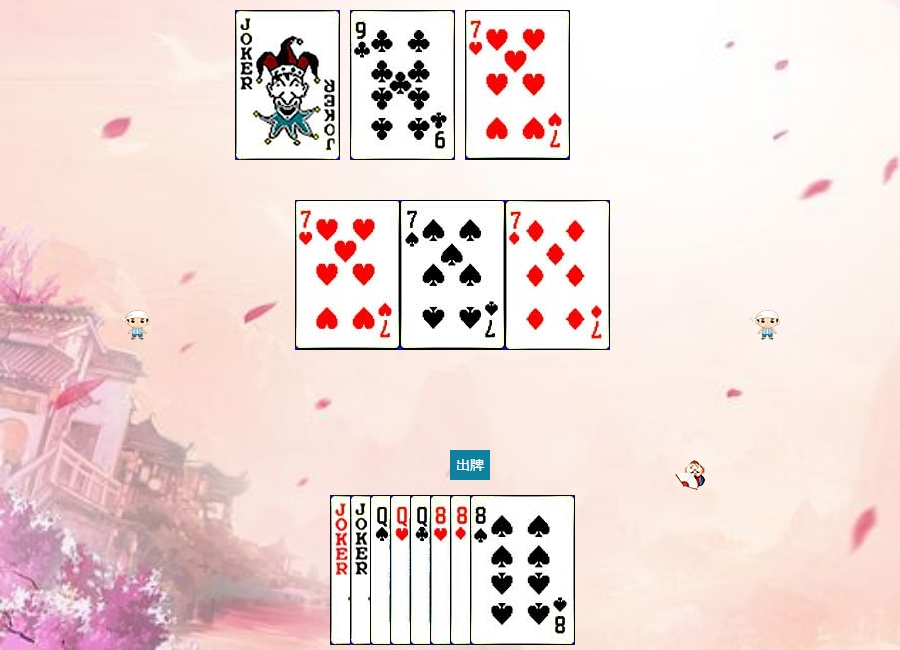12~2: (410, 495, 515, 645)
12~3: (390, 495, 495, 645)
12~4: (370, 495, 475, 645)
17~3: (235, 10, 340, 160), (350, 495, 455, 645)
18~4: (330, 495, 435, 645)
7~1: (505, 200, 610, 350)
7~3: (465, 10, 570, 160), (295, 200, 400, 350)
7~4: (400, 200, 505, 350)
8~1: (450, 495, 555, 645)
8~3: (430, 495, 535, 645)
8~4: (470, 495, 575, 645)
9~2: (350, 10, 455, 160)
